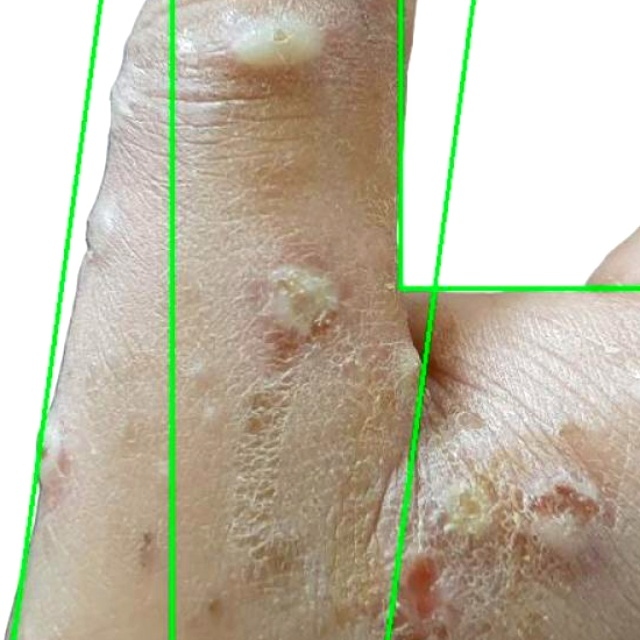Scabies: (13, 0, 473, 639), (0, 0, 172, 639), (399, 0, 639, 289)
